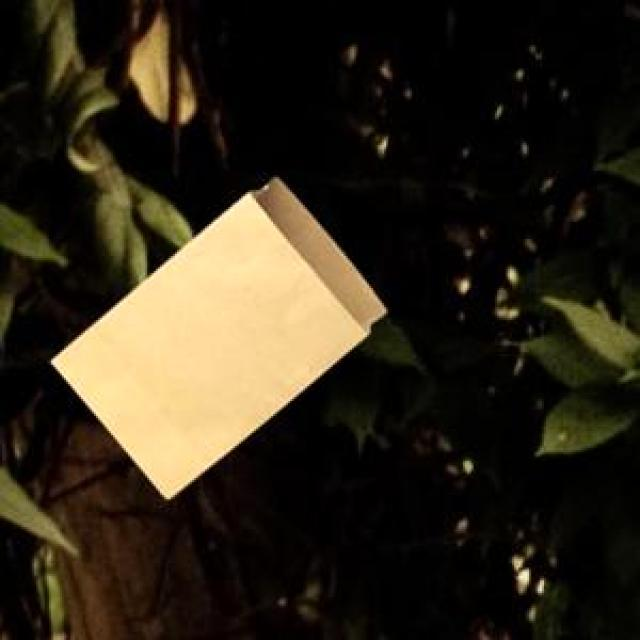Paper_Bag: (48, 174, 383, 496)
